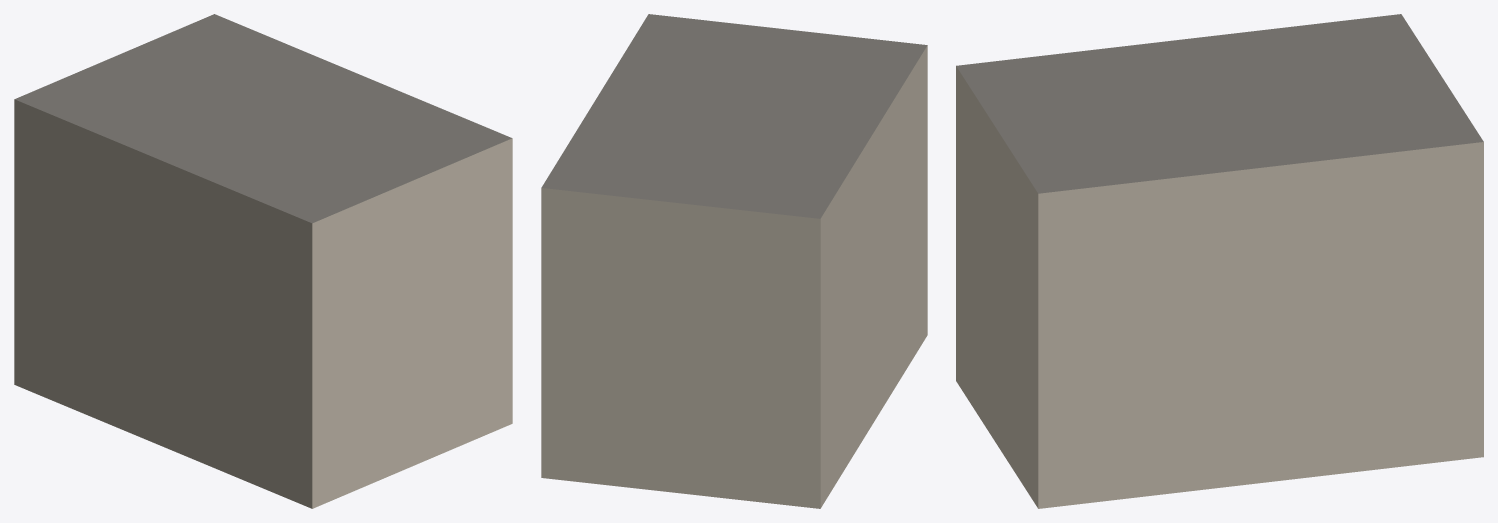
The picture shows the model from 3 angles, left to right: view 1: azimuth 30°, elevation 25°; view 2: azimuth 150°, elevation 25°; view 3: azimuth 270°, elevation 25°; orthographic projection. The views are drawn at different scales.
Visible parts, largest first — view 1: HP-w380339862; view 2: HP-w380339862; view 3: HP-w380339862.
Boxes of the visible parts, box(x1,y1,x2,y2) form: HP-w380339862: box(14, 14, 512, 508); HP-w380339862: box(541, 14, 927, 508); HP-w380339862: box(956, 14, 1483, 508).
Size of the model in its own units: 18.34 by 15 by 22.76.
